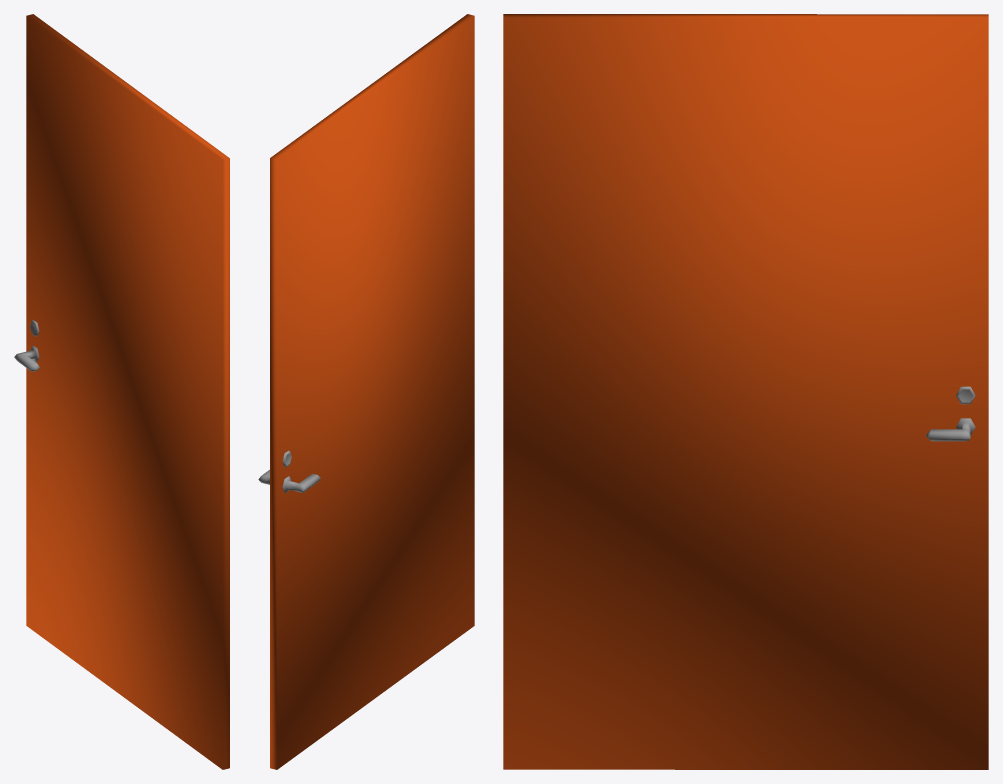
The model's file is TELLUS_arena_booth_door.FBX.
3 views of the same model, side by side, from view 1: azimuth 30°, elevation 25°; view 2: azimuth 150°, elevation 25°; view 3: azimuth 270°, elevation 25° (orthographic). The views are drawn at different scales.
Parts seen in each view (by area): view 1: TELLUS_arena_booth_door; view 2: TELLUS_arena_booth_door; view 3: TELLUS_arena_booth_door.
Boxes of the visible parts, x1,y1,x2,y2 form: TELLUS_arena_booth_door: (14, 14, 229, 769); TELLUS_arena_booth_door: (258, 14, 474, 769); TELLUS_arena_booth_door: (503, 14, 988, 769).
Size of the model in its own units: 16.05 by 120 by 205.
